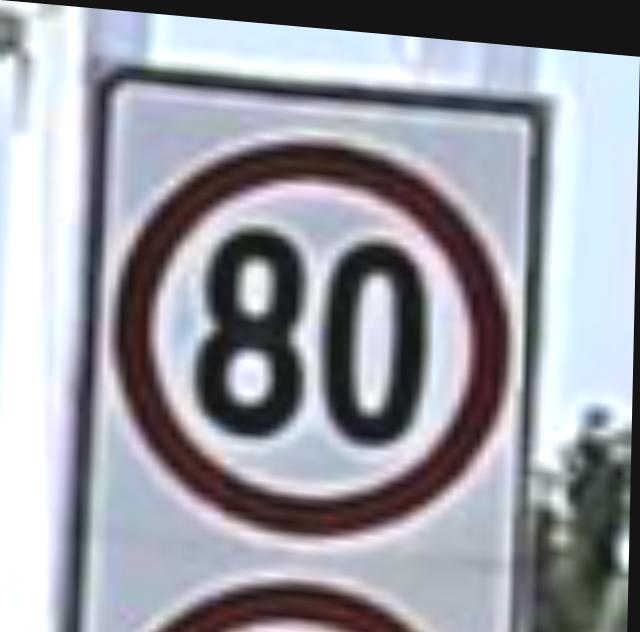limit80: (104, 104, 524, 552)
